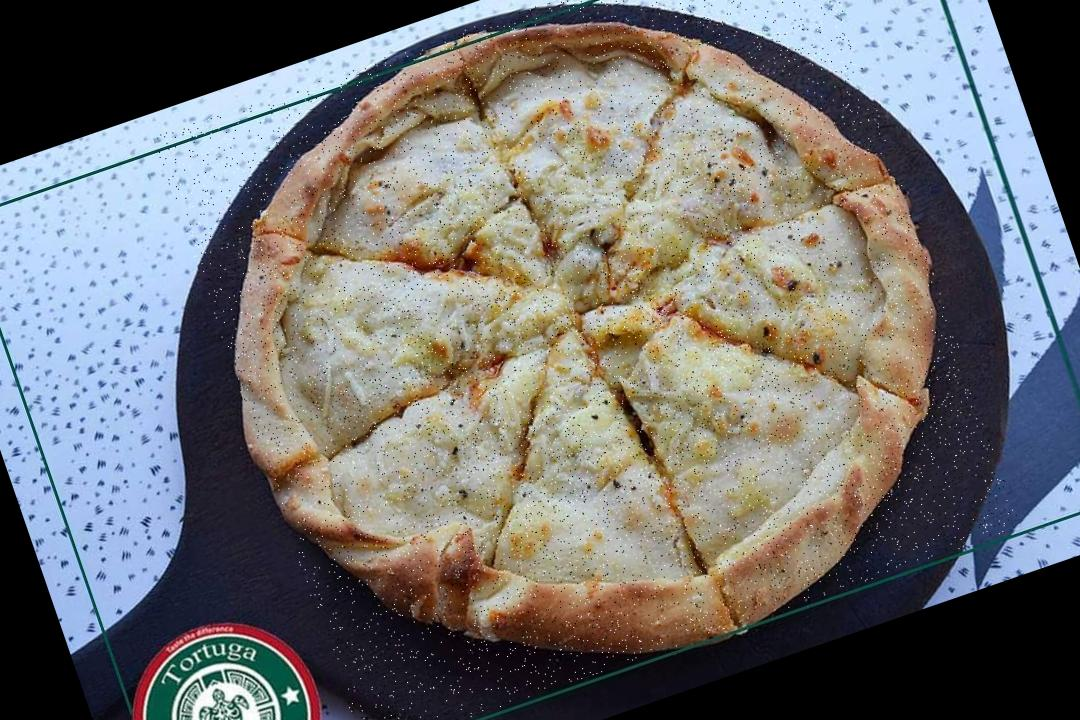Cheese: (342, 76, 830, 570)
Pizza: (153, 0, 1021, 720)
